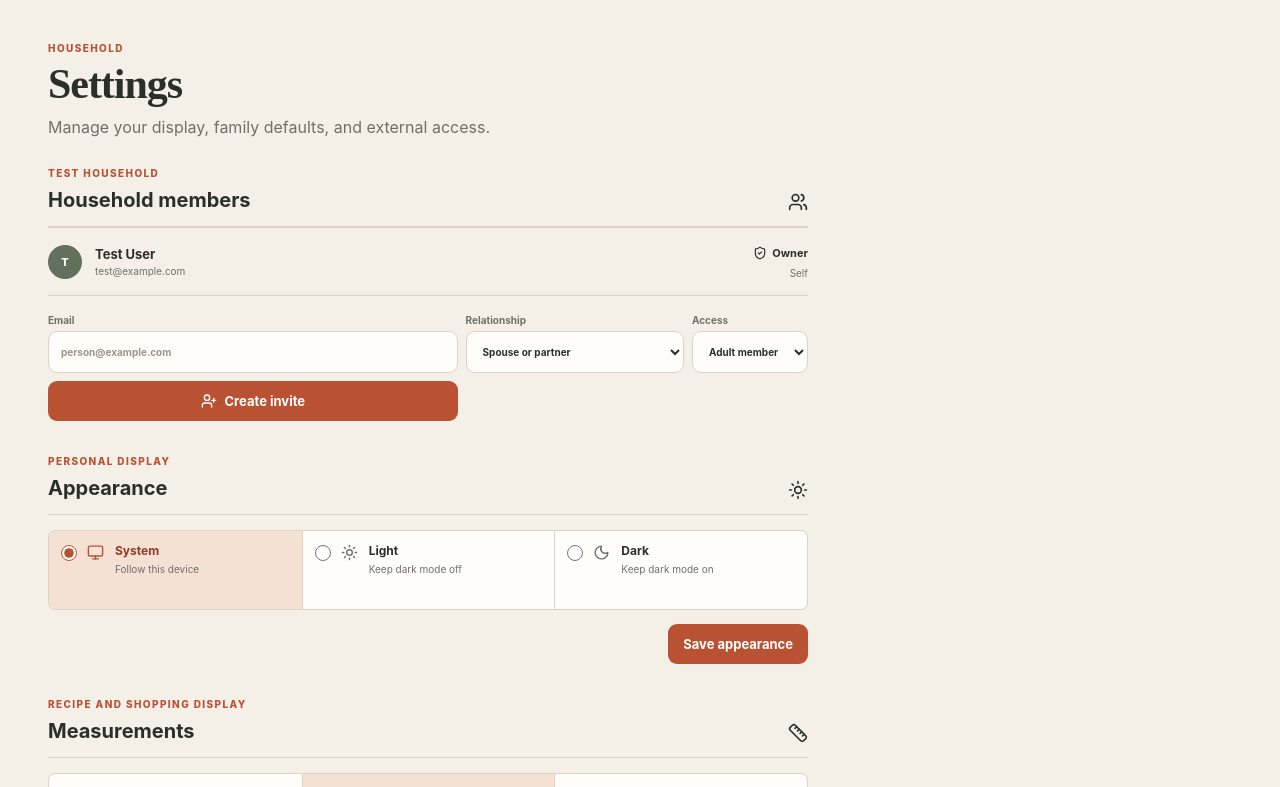
appearance settings › saves and applies a manual dark-mode preference
This screenshot has width=1280, height=787.
Click the radio button labelled "Dark Keep dark mode on": [575, 554] box [567,546,583,562]
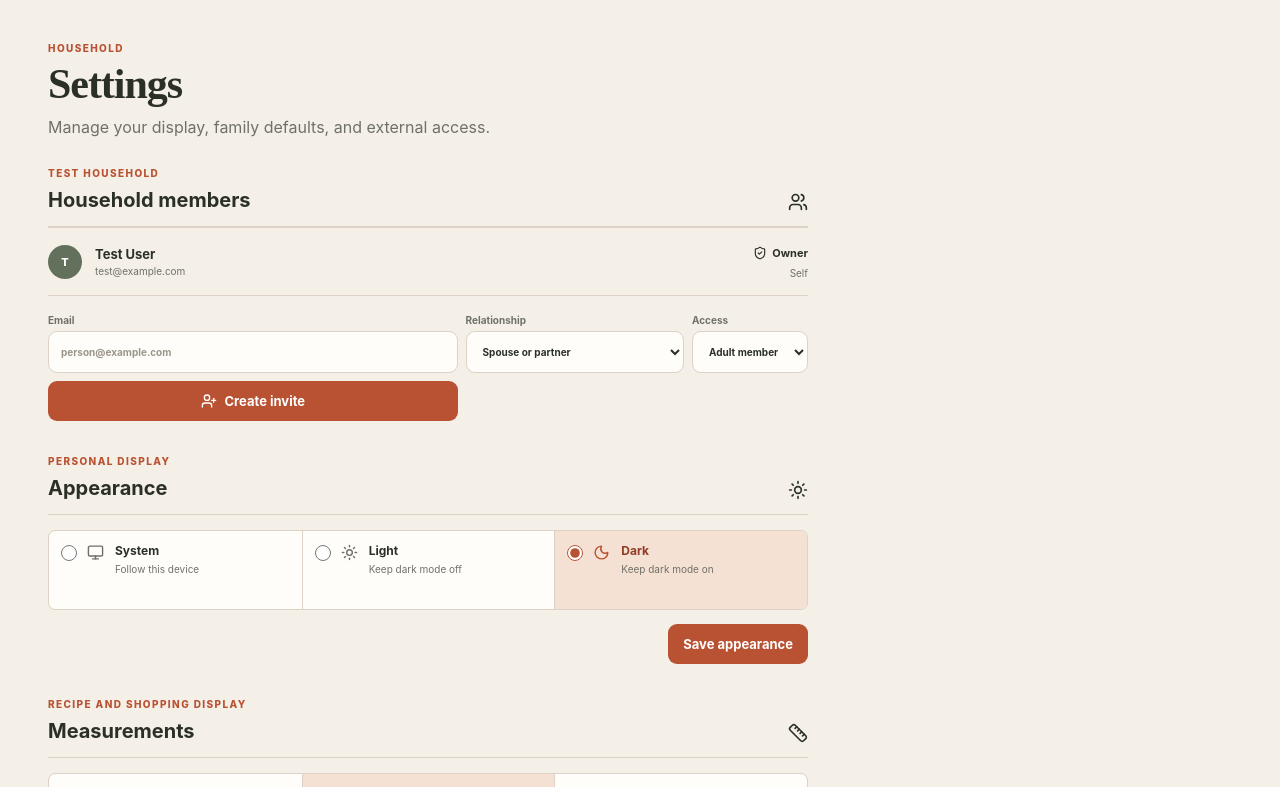
Click the button "Save appearance": [738, 644] box [668,624,808,664]
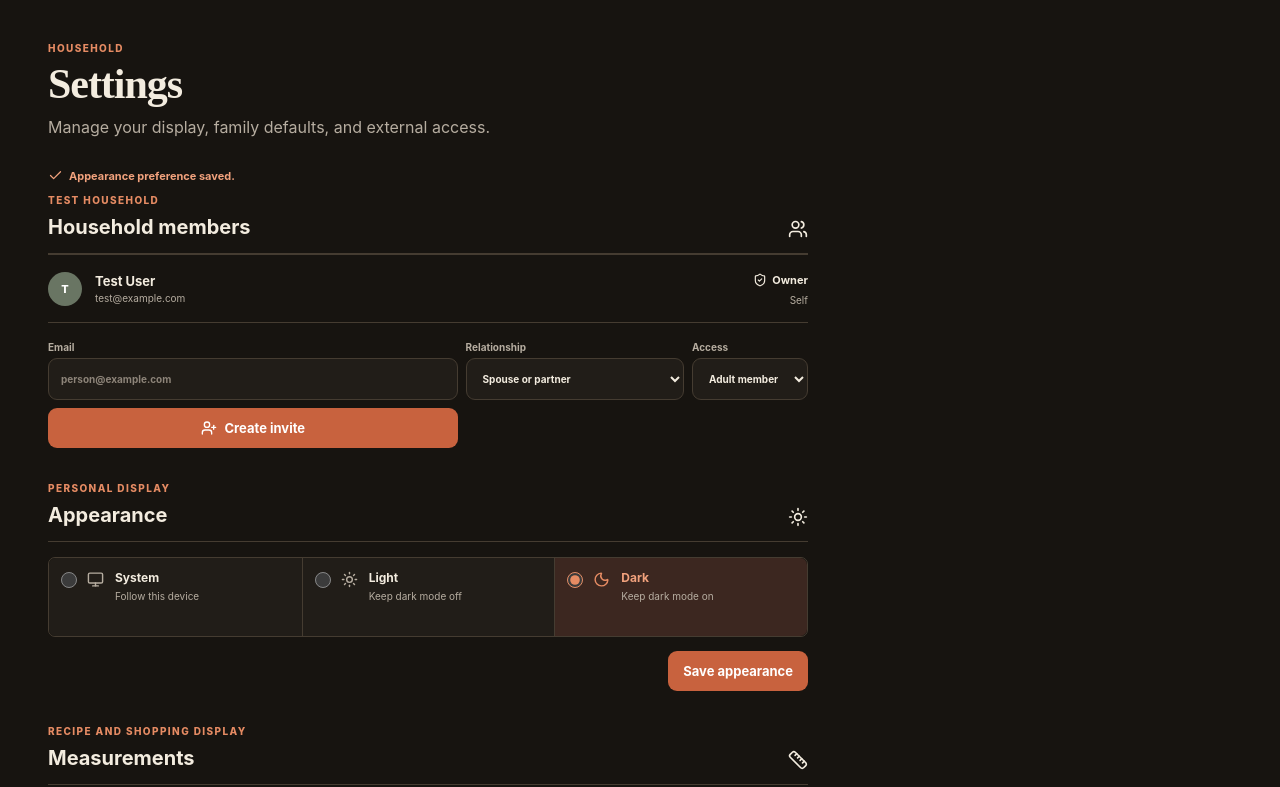
Expected: the text "Appearance preference saved." is shown, [48,168,235,184]
